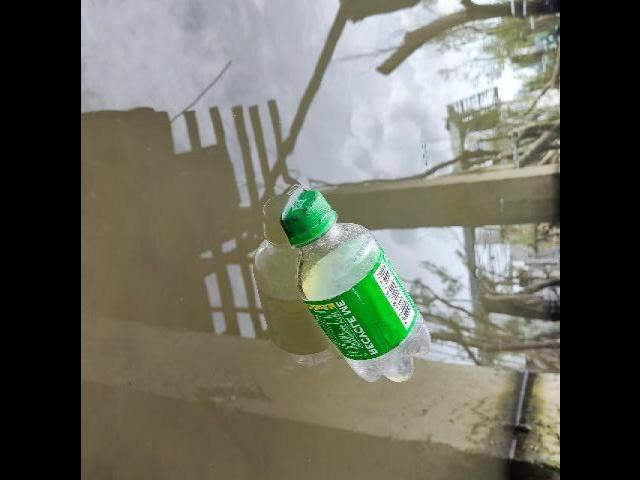Bottle: (274, 178, 436, 392)
